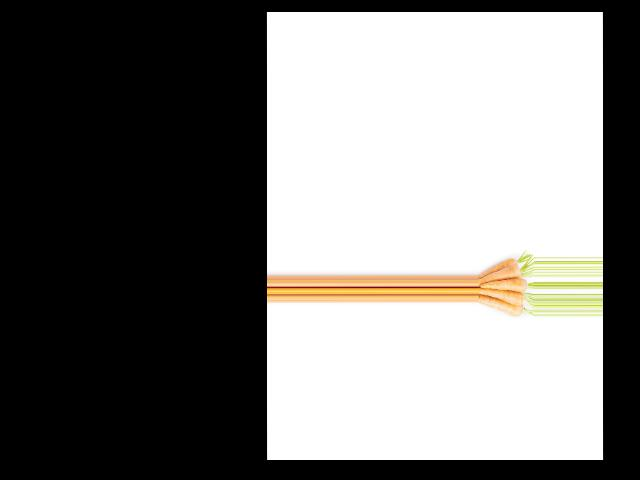carrot: (478, 253, 518, 278)
